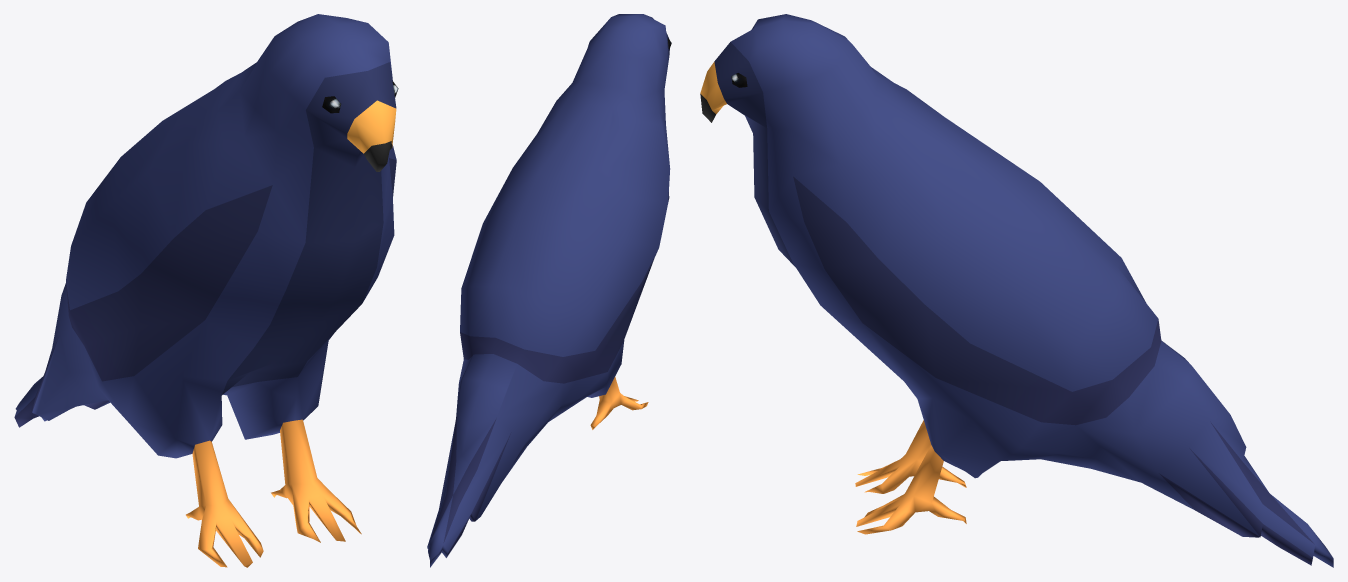
The model's file is 63bbc3e9-5bc8-417d-872e-a5c7e18564c2.glb.
3 views of the same model, side by side, from view 1: azimuth 30°, elevation 25°; view 2: azimuth 150°, elevation 25°; view 3: azimuth 270°, elevation 25° (orthographic). The views are drawn at different scales.
Visible parts, largest first — view 1: Falcon; view 2: Falcon; view 3: Falcon.
Boxes of the visible parts, x1,y1,x2,y2 form: Falcon: (14,14,398,567); Falcon: (427,14,671,567); Falcon: (700,14,1333,567).
Size of what is drawn, in the model's own units: 0.2565 by 0.653 by 0.6848.
1 material, 1 textured.
